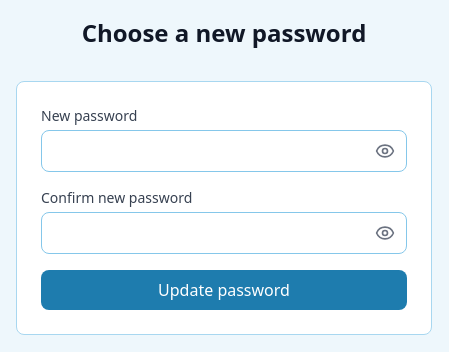
ResetPasswordPage › submits the new password with the token from the URL
This screenshot has width=449, height=352.
Step 1. Type "brand-new-pw" into the password field labelled "New password" → (224, 151), box top-left (41, 130), bottom-right (407, 172)
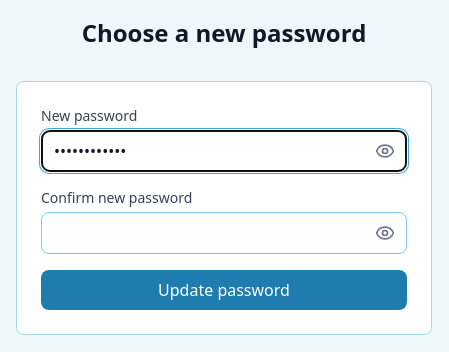
Step 2. Type "brand-new-pw" into the password field labelled "Confirm new password" → (224, 233), box top-left (41, 212), bottom-right (407, 254)
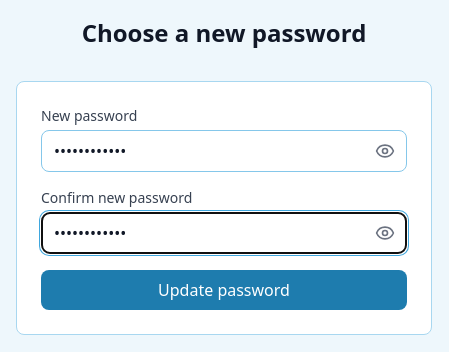
Step 3. Click the button "Update password" → (224, 290), box top-left (41, 270), bottom-right (407, 310)
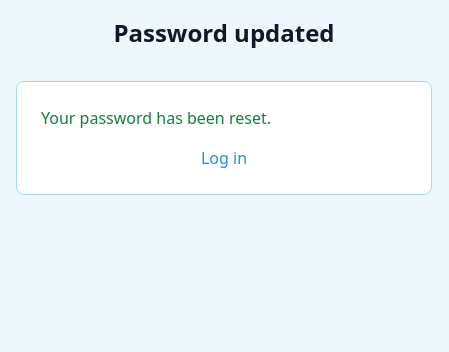
Result: the heading "Password updated" is shown at top-left (113, 16), bottom-right (334, 49)
